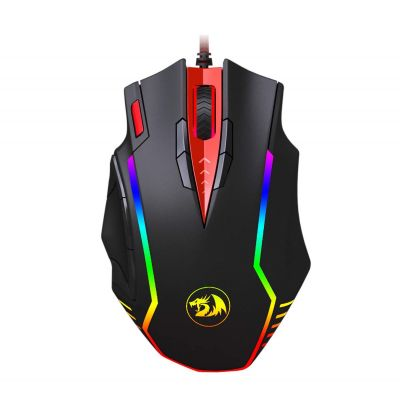Mouse: (96, 54, 318, 381)
